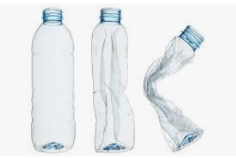Bottle: (143, 25, 207, 152), (91, 6, 135, 152), (33, 9, 75, 148)
